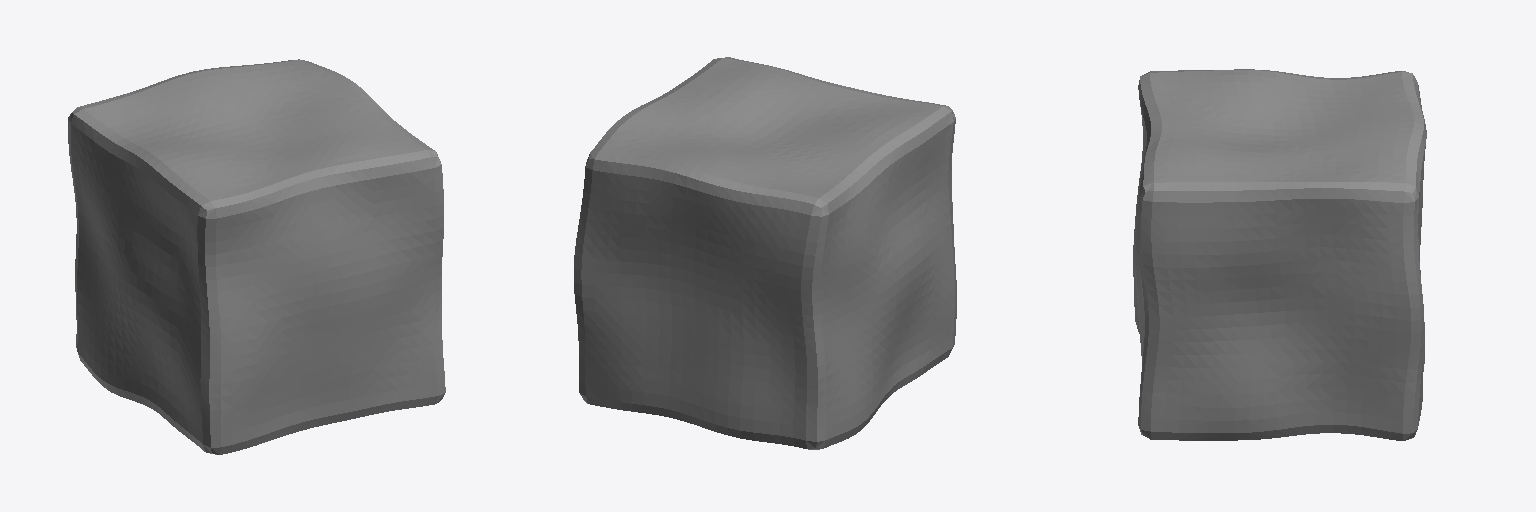
Rendered from bloc1_fromMax.obj.
The picture shows the model from 3 angles: view 1: azimuth 30°, elevation 25°; view 2: azimuth 150°, elevation 25°; view 3: azimuth 270°, elevation 25°; orthographic projection.
Parts seen in each view (by area): view 1: Box005; view 2: Box005; view 3: Box005.
Part boxes in pixels (bbox=[...]): Box005: bbox=[68, 59, 445, 454]; Box005: bbox=[574, 57, 956, 449]; Box005: bbox=[1133, 69, 1426, 440].
Bounding box in the file's own units: 0.7353 × 0.7353 × 0.7347.